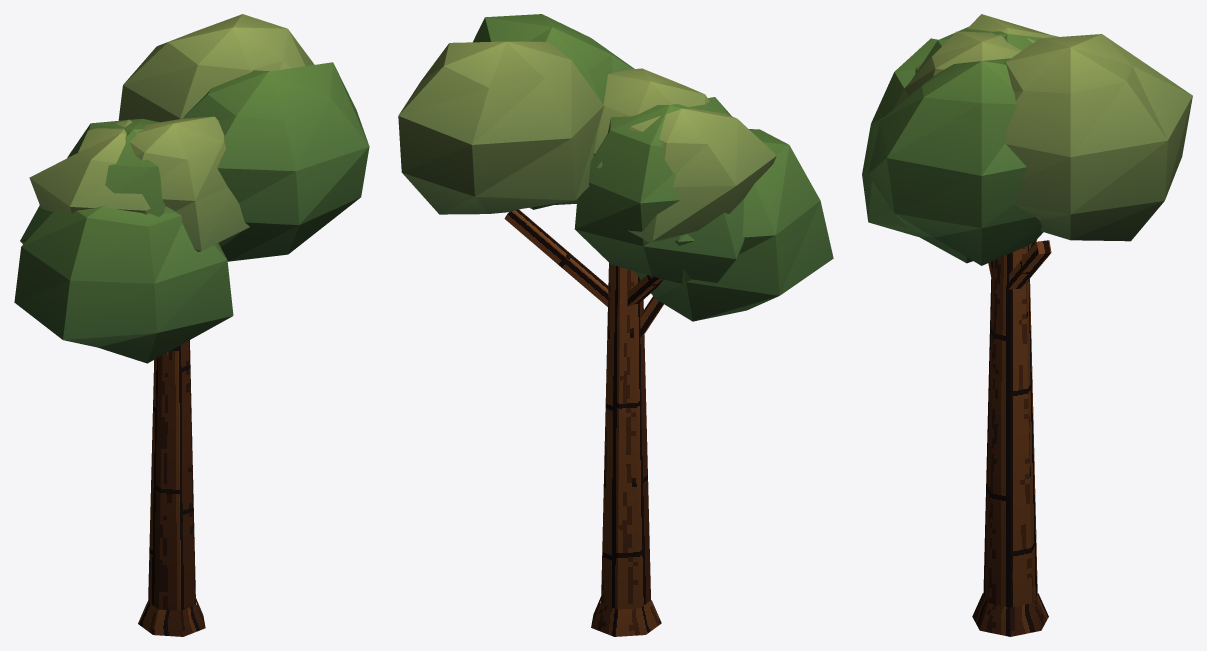
The model's file is birch_3_lowpoly.glb.
3 views of the same model, side by side, from view 1: azimuth 30°, elevation 25°; view 2: azimuth 150°, elevation 25°; view 3: azimuth 270°, elevation 25° (orthographic). The views are drawn at different scales.
Parts seen in each view (by area): view 1: birch_3_lowpoly; view 2: birch_3_lowpoly; view 3: birch_3_lowpoly.
Part boxes in pixels (x1,y1,x2,y2): birch_3_lowpoly: (14, 14, 369, 636); birch_3_lowpoly: (398, 14, 833, 636); birch_3_lowpoly: (862, 14, 1192, 636).
Size of the model in its own units: 3.88 by 6.26 by 3.03.
Materials: 2 (1 with a texture image).
